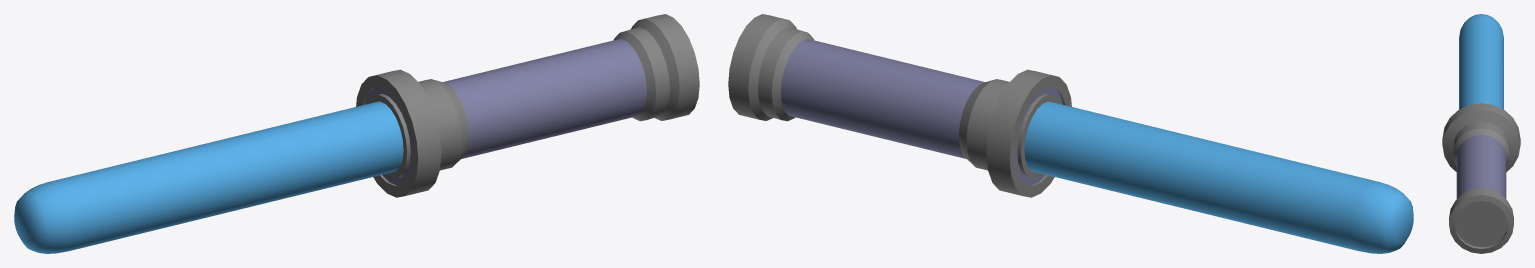
Rendered from Sword.fbx.
The picture shows the model from 3 angles, left to right: view 1: azimuth 30°, elevation 25°; view 2: azimuth 150°, elevation 25°; view 3: azimuth 270°, elevation 25°; orthographic projection. The views are drawn at different scales.
Visible parts, largest first — view 1: Sword; view 2: Sword; view 3: Sword.
Boxes of the visible parts, left/top/right/bottom form: Sword: left=14, top=14, right=699, bottom=253; Sword: left=728, top=14, right=1413, bottom=253; Sword: left=1442, top=14, right=1520, bottom=253.
Bounding box in the file's own units: 86.84 × 14.49 × 14.49.
